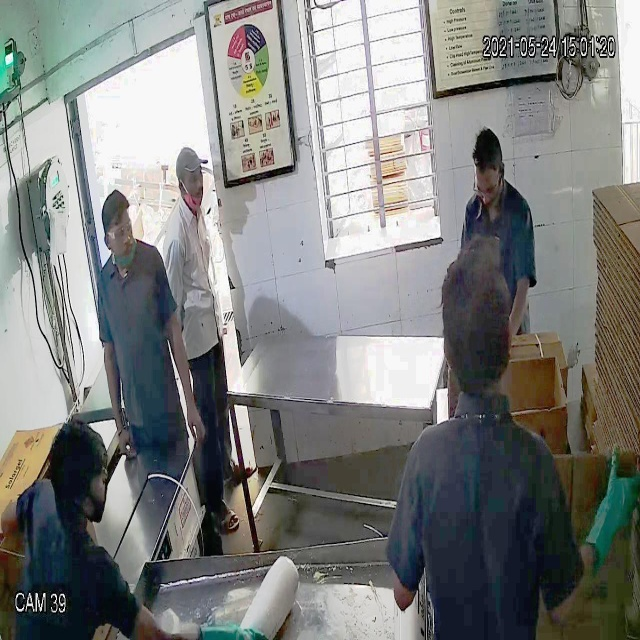Gafas: (99, 219, 139, 246)
Sin_gafas: (176, 168, 205, 192)
